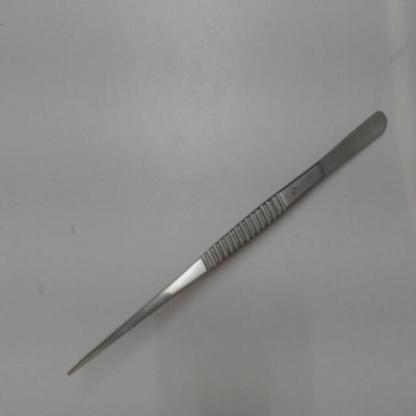DeBakey Dissector: (52, 98, 395, 392)
